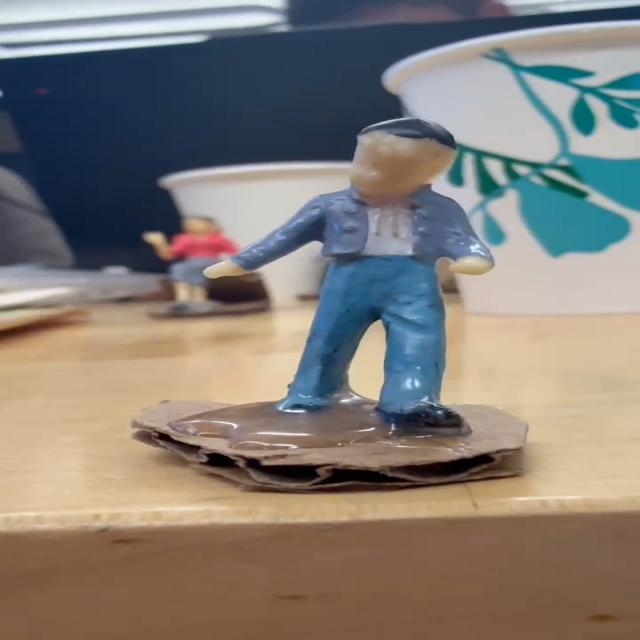Authorized: (249, 83, 506, 488)
